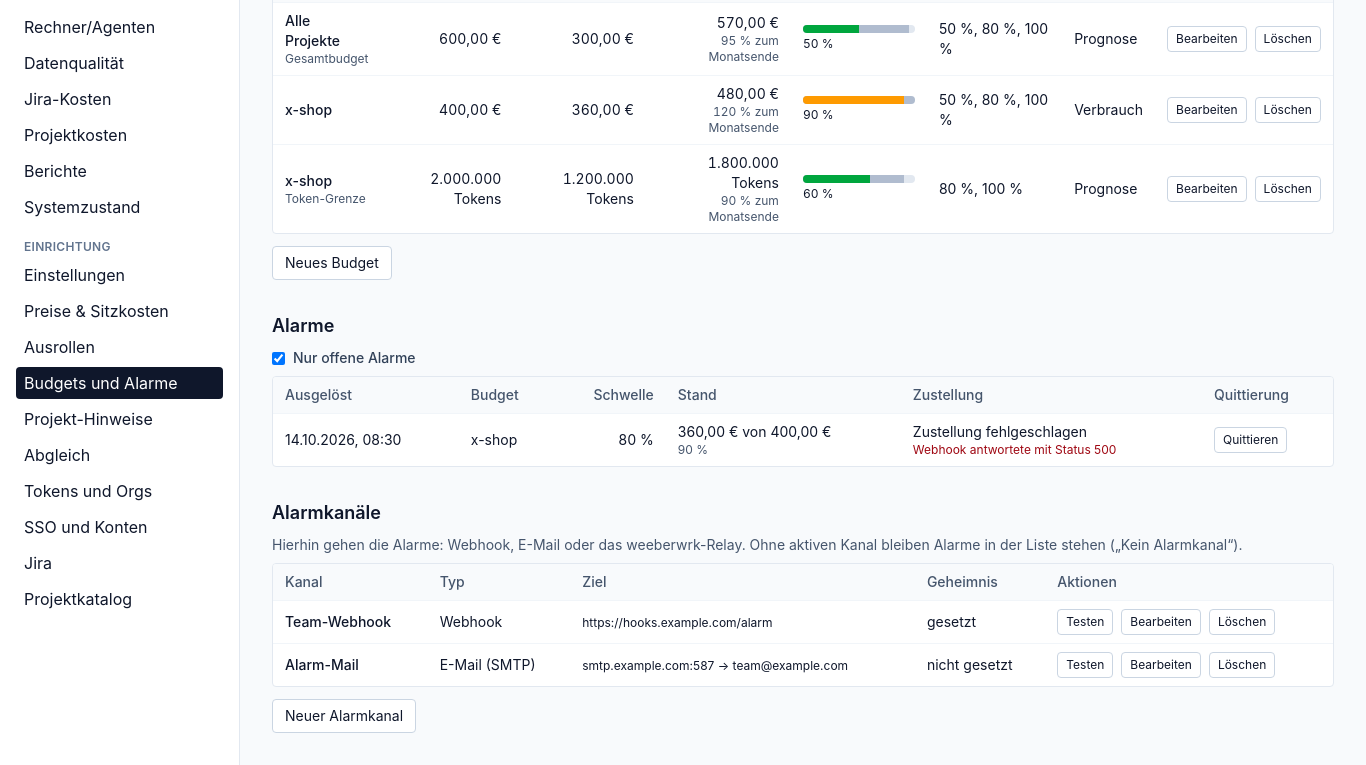
Alarmkanäle › testet einen Kanal und zeigt das Ergebnis
This screenshot has width=1366, height=765.
(page scrolled)
Click the button with aria-label "Kanal Team-Webhook testen".
click(1085, 622)  # box [1057,609,1113,635]
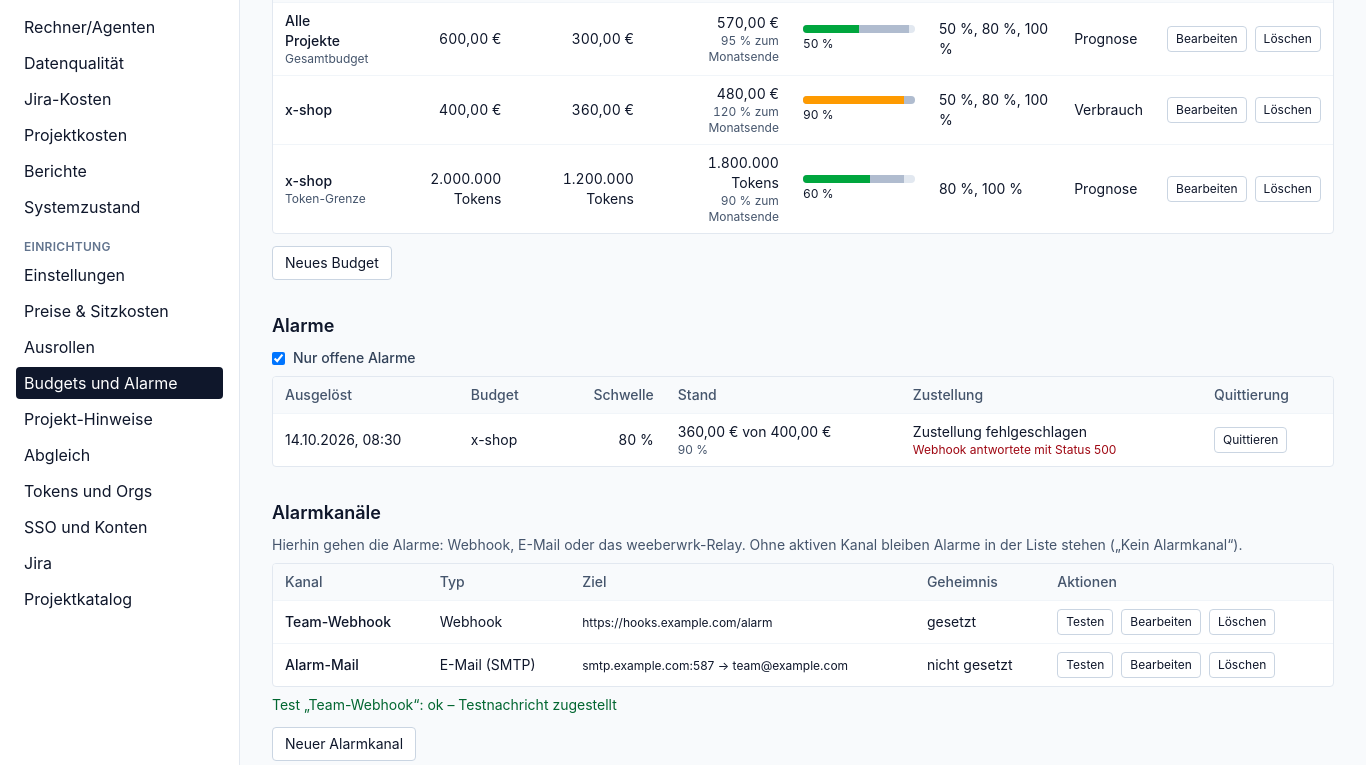
Expected: the text "Test „Team-Webhook“: ok – Testnachricht zugestellt" is shown, [272,696,617,713]
